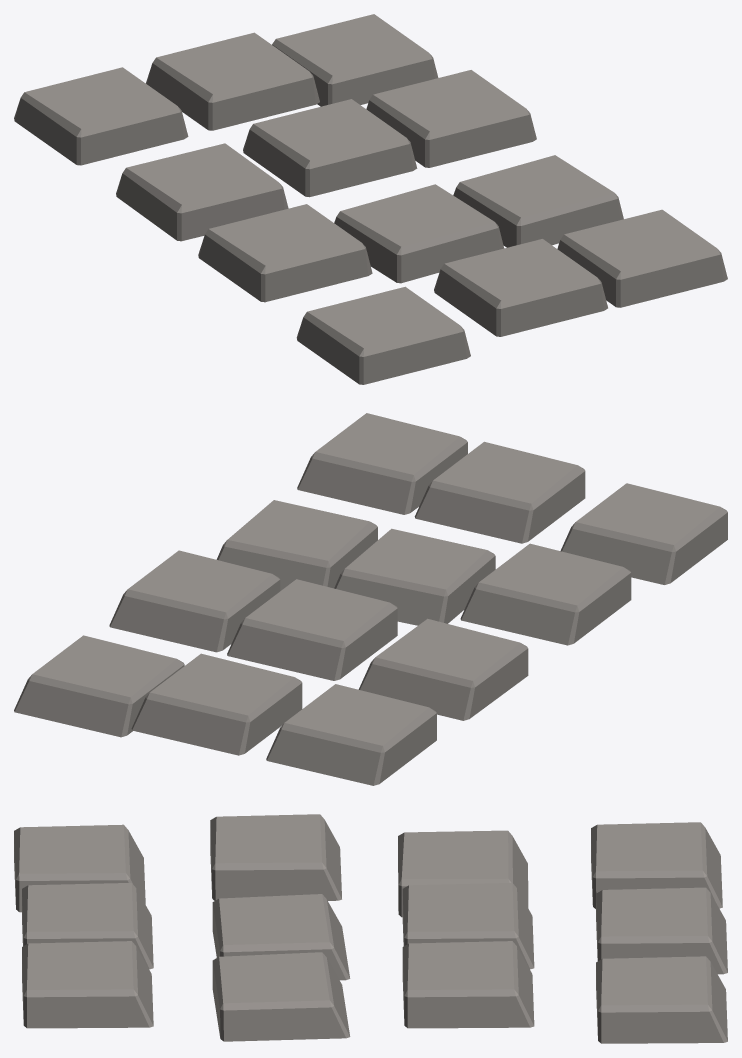
The model's file is shitou_zuhe.fbx.
3 renders of one model, top to bottom at view 1: azimuth 30°, elevation 25°; view 2: azimuth 150°, elevation 25°; view 3: azimuth 270°, elevation 25°, orthographic.
Visible parts, largest first — view 1: shitou4__78_, shitou4__75_, shitou4__82_, shitou4__80_, shitou4__76_, shitou4__81_, shitou4__79_, shitou4__83_, shitou4__85_, shitou4__77_, shitou4__84_, shitou4__86_; view 2: shitou4__76_, shitou4__78_, shitou4__81_, shitou4__82_, shitou4__80_, shitou4__79_, shitou4__75_, shitou4__83_, shitou4__85_, shitou4__86_, shitou4__77_, shitou4__84_; view 3: shitou4__86_, shitou4__85_, shitou4__84_, shitou4__83_, shitou4__78_, shitou4__81_, shitou4__82_, shitou4__77_, shitou4__80_, shitou4__76_, shitou4__75_, shitou4__79_.
Part boxes in pixels (<box>): shitou4__78_: <box>198,204,372,302</box>; shitou4__75_: <box>296,286,470,384</box>; shitou4__82_: <box>14,67,188,165</box>; shitou4__80_: <box>243,99,417,197</box>; shitou4__76_: <box>434,239,607,336</box>; shitou4__81_: <box>146,32,319,130</box>; shitou4__79_: <box>116,143,288,241</box>; shitou4__83_: <box>557,209,727,307</box>; shitou4__85_: <box>366,70,536,167</box>; shitou4__77_: <box>334,184,504,283</box>; shitou4__84_: <box>453,155,623,247</box>; shitou4__86_: <box>272,14,438,106</box>; shitou4__76_: <box>414,441,585,543</box>; shitou4__78_: <box>460,543,631,645</box>; shitou4__81_: <box>131,653,302,755</box>; shitou4__82_: <box>266,684,436,785</box>; shitou4__80_: <box>227,579,397,680</box>; shitou4__79_: <box>358,618,528,720</box>; shitou4__75_: <box>560,483,727,584</box>; shitou4__83_: <box>297,413,467,514</box>; shitou4__85_: <box>109,550,280,652</box>; shitou4__86_: <box>14,635,184,737</box>; shitou4__77_: <box>334,528,495,625</box>; shitou4__84_: <box>216,500,377,590</box>; shitou4__86_: <box>596,956,727,1043</box>; shitou4__85_: <box>402,941,534,1028</box>; shitou4__84_: <box>212,952,350,1041</box>; shitou4__83_: <box>22,941,153,1028</box>; shitou4__78_: <box>210,814,341,900</box>; shitou4__81_: <box>596,887,727,974</box>; shitou4__82_: <box>591,822,722,908</box>; shitou4__77_: <box>212,894,350,980</box>; shitou4__80_: <box>402,883,534,969</box>; shitou4__76_: <box>22,883,153,969</box>; shitou4__75_: <box>14,824,145,912</box>; shitou4__79_: <box>398,830,528,917</box>.
Bounding box in the file's own units: 33.25 × 4.12 × 54.95.
